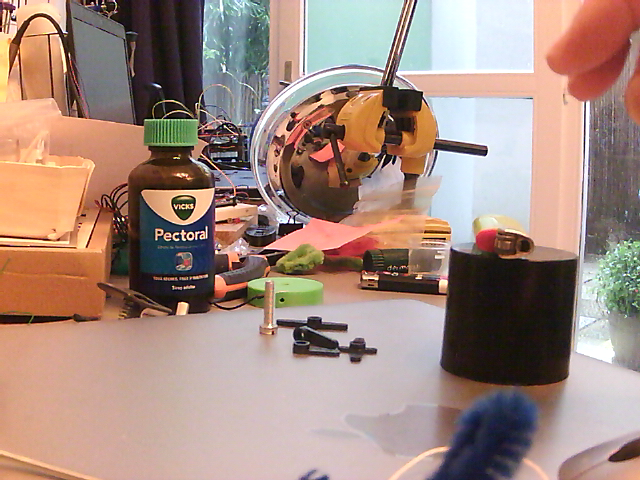bolt: (259, 279, 279, 338)
lighter: (467, 213, 537, 262)
